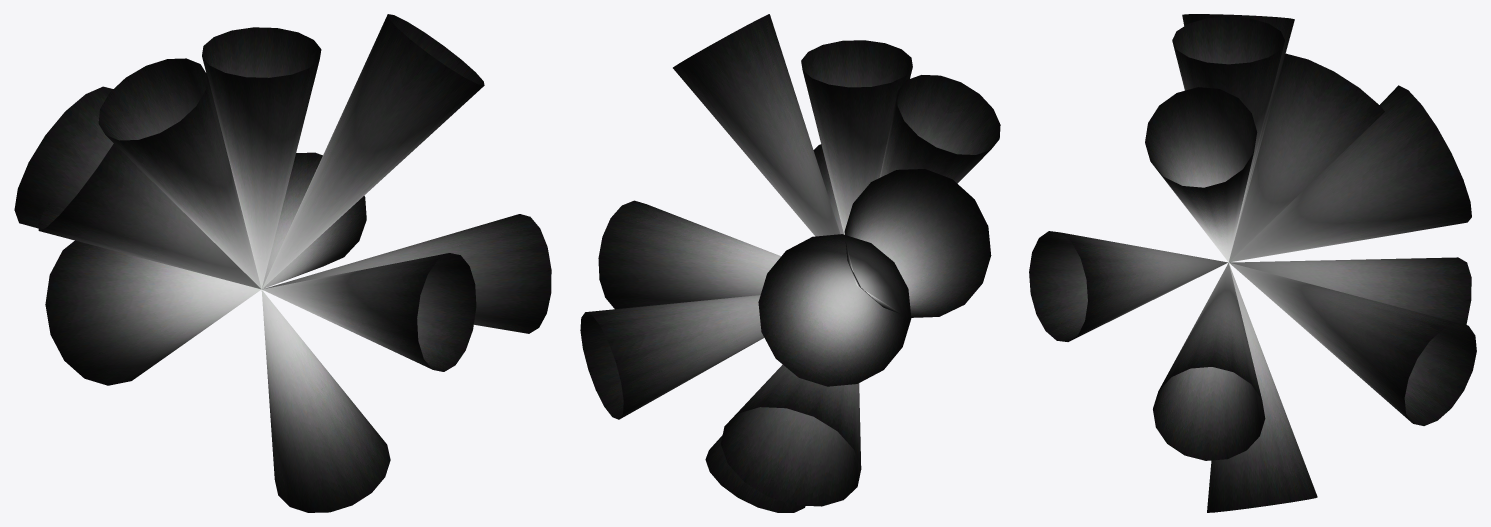
File: vfx_kurp_0541.dae
The picture shows the model from 3 angles, left to right: view 1: azimuth 30°, elevation 25°; view 2: azimuth 150°, elevation 25°; view 3: azimuth 270°, elevation 25°; orthographic projection. The views are drawn at different scales.
Parts seen in each view (by area): view 1: vfx_kurp_0541; view 2: vfx_kurp_0541; view 3: vfx_kurp_0541.
Part boxes in pixels (bbox=[...]): vfx_kurp_0541: bbox=[14, 14, 551, 512]; vfx_kurp_0541: bbox=[580, 14, 1000, 512]; vfx_kurp_0541: bbox=[1029, 14, 1476, 512].
Size of the model in its own units: 11.2 by 10.63 by 11.86.
Materials: 1 (1 with a texture image).
